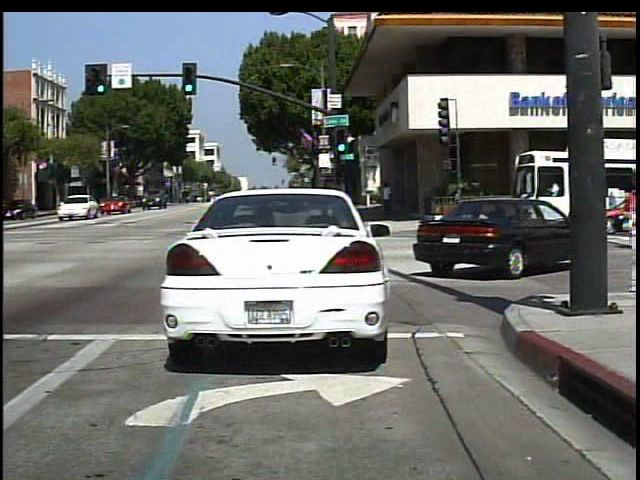person: (379, 179, 398, 220)
